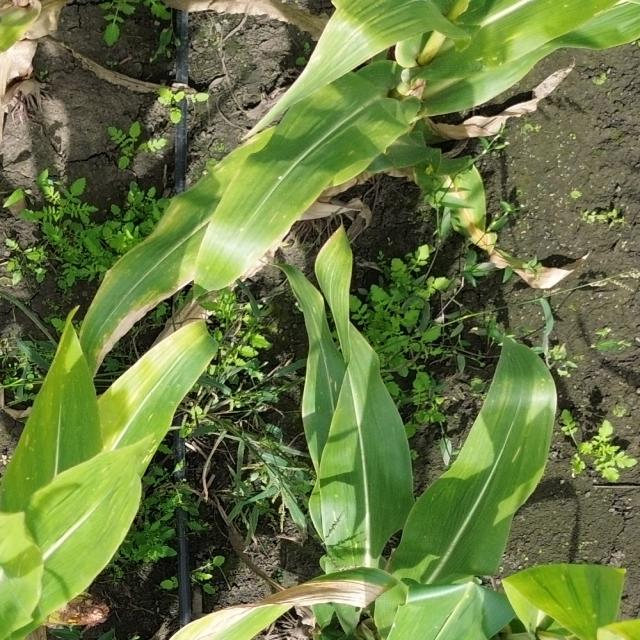gray-leaf-spot: (316, 8, 390, 68), (127, 406, 165, 466)
northern-leaf-blight: (204, 575, 362, 636), (437, 166, 491, 240)
southern-leaf-blight: (22, 368, 98, 450), (225, 168, 316, 235), (102, 248, 182, 317), (534, 565, 618, 621), (496, 353, 561, 416), (302, 321, 346, 412)
